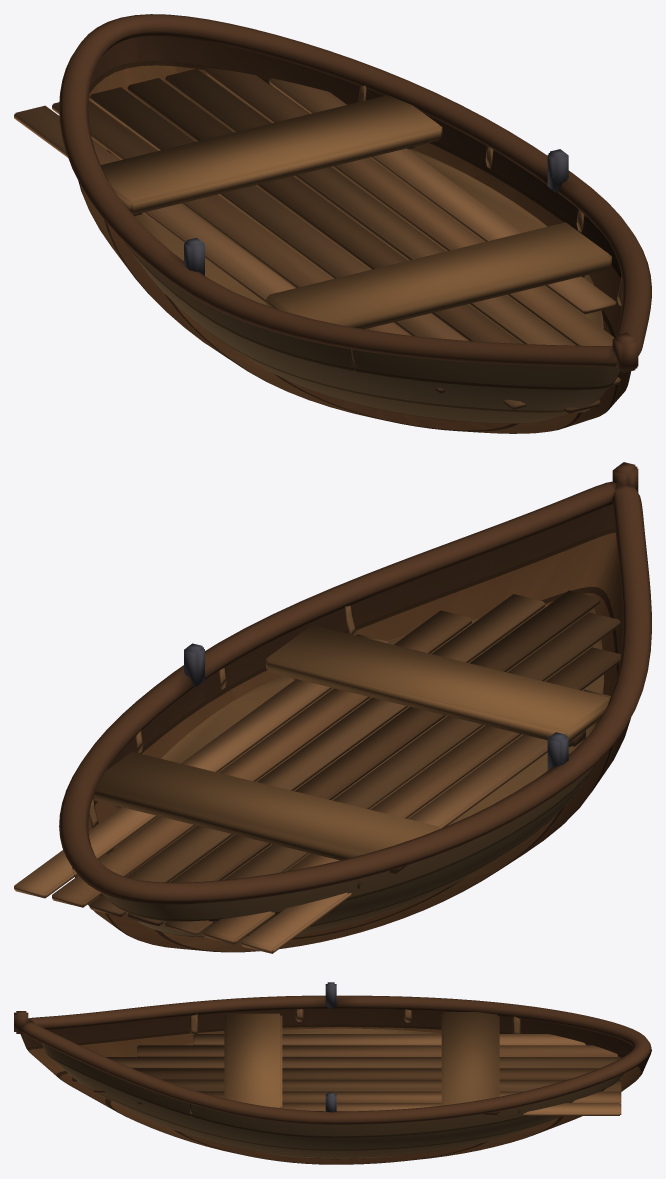
File: boat.glb
The picture shows the model from 3 angles, top to bottom: view 1: azimuth 30°, elevation 25°; view 2: azimuth 150°, elevation 25°; view 3: azimuth 270°, elevation 25°; orthographic projection. The views are drawn at different scales.
Parts seen in each view (by area): view 1: boat; view 2: boat; view 3: boat.
Part boxes in pixels (left/top/right/bottom): boat: left=14, top=14, right=651, bottom=433; boat: left=14, top=462, right=651, bottom=953; boat: left=14, top=982, right=651, bottom=1164.
Bounding box in the file's own units: 1.61 × 0.81 × 3.52.
